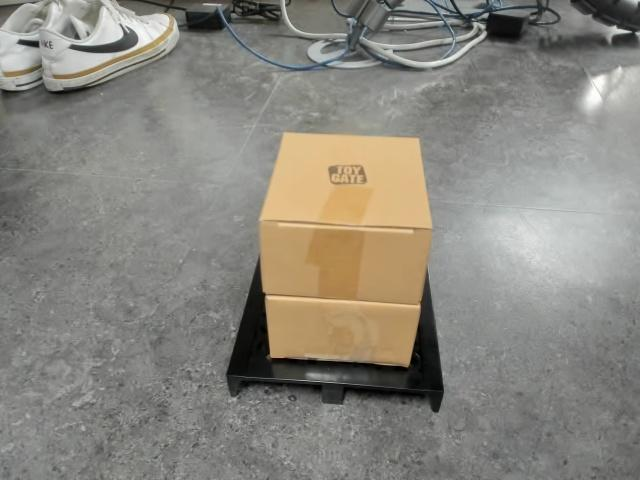box: (224, 129, 449, 415)
